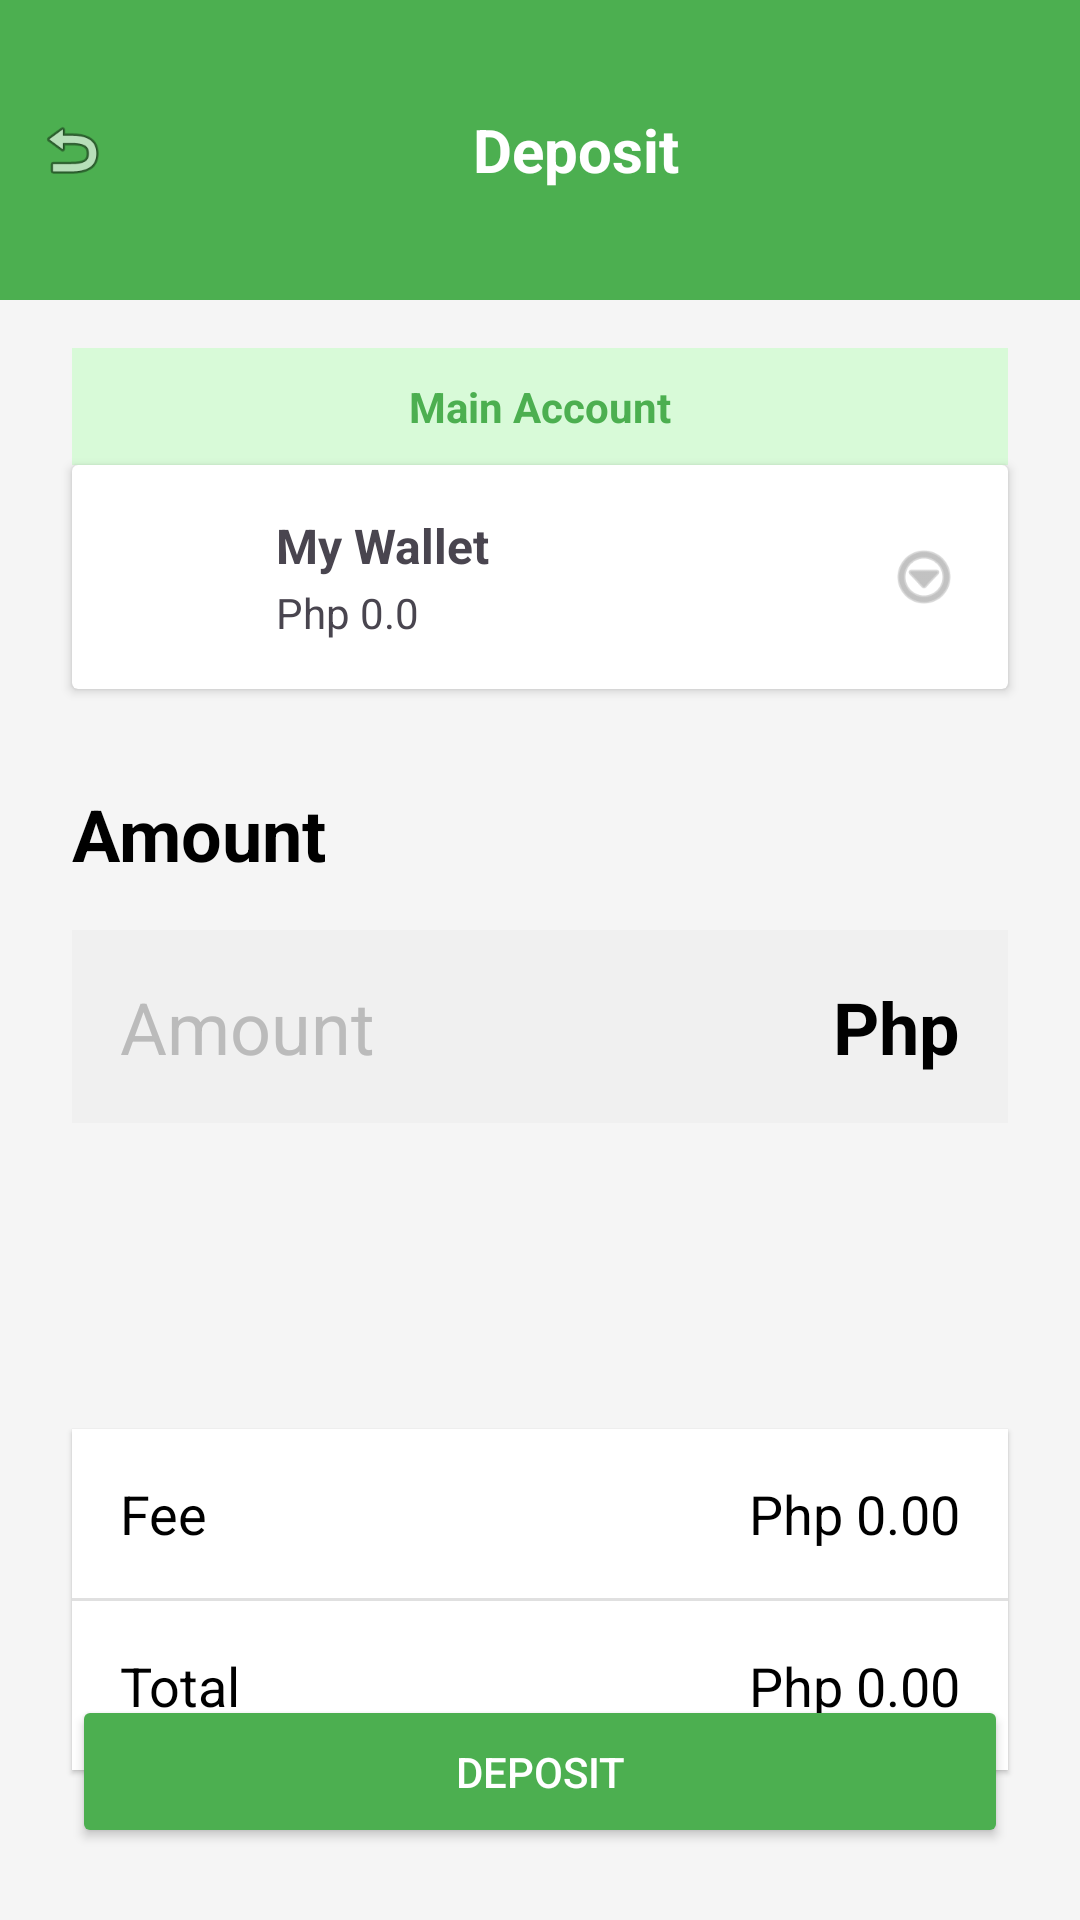

Where icons sit on this 1080 x 1920 app screen, as (x1, y1, x2, y2):
revert: (47, 127, 99, 174)
